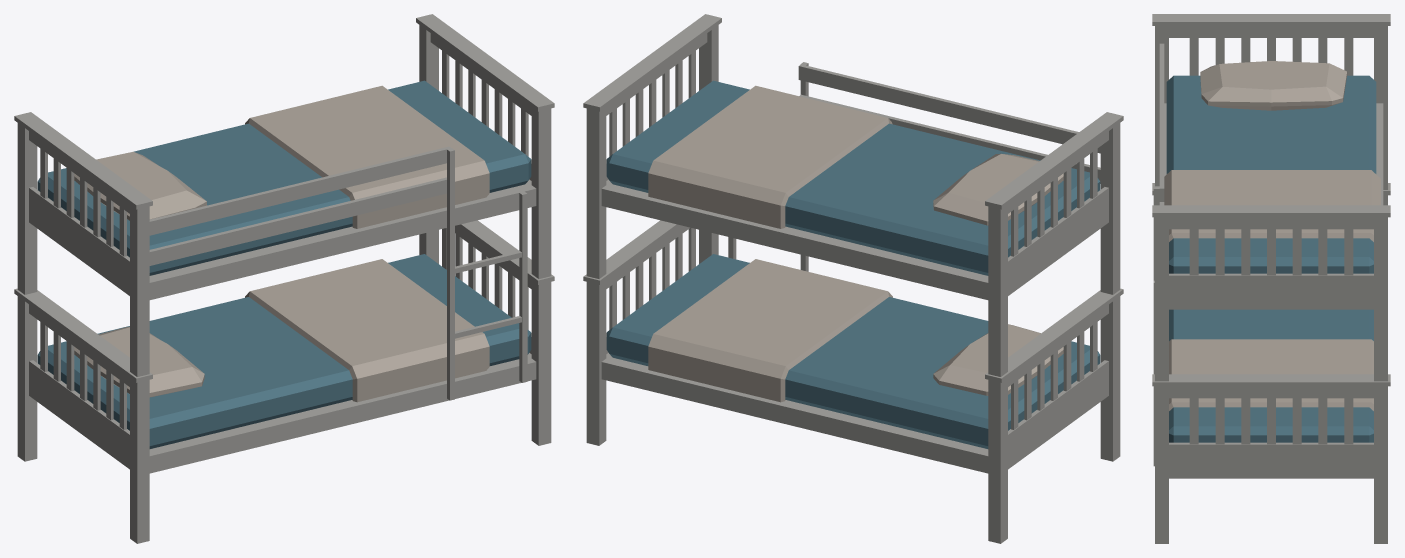
Rendered from SM_Props_Interior_House_Room_Bed_04.fbx.
The picture shows the model from 3 angles, left to right: view 1: azimuth 30°, elevation 25°; view 2: azimuth 150°, elevation 25°; view 3: azimuth 270°, elevation 25°; orthographic projection. The views are drawn at different scales.
Parts seen in each view (by area): view 1: SM_Props_Interior_House_Room_Bed_04; view 2: SM_Props_Interior_House_Room_Bed_04; view 3: SM_Props_Interior_House_Room_Bed_04.
Boxes of the visible parts, left/top/right/bottom form: SM_Props_Interior_House_Room_Bed_04: left=14, top=14, right=554, bottom=543; SM_Props_Interior_House_Room_Bed_04: left=583, top=14, right=1123, bottom=543; SM_Props_Interior_House_Room_Bed_04: left=1152, top=14, right=1390, bottom=543.
Size of the model in its own units: 202 by 157 by 102.
